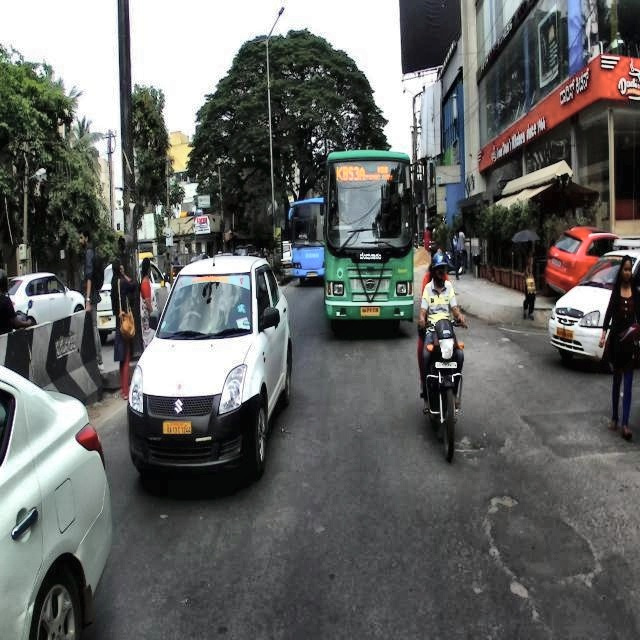Pothole: (454, 504, 640, 639), (467, 402, 556, 489)
